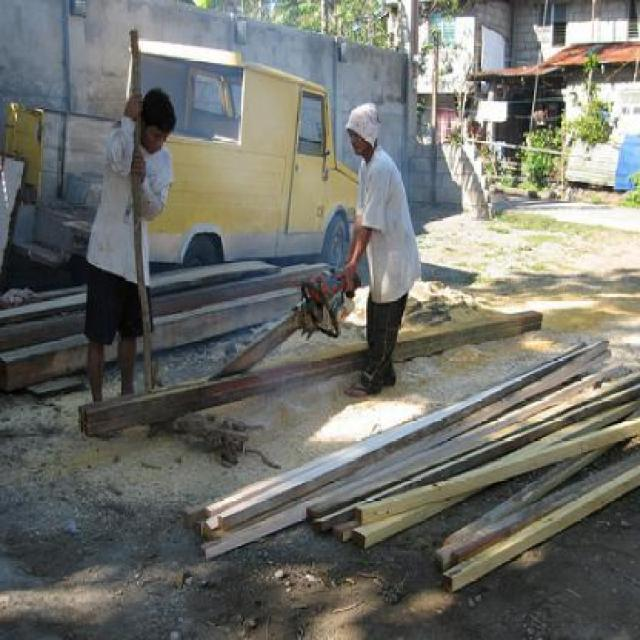Chainsaw: (203, 265, 365, 384)
